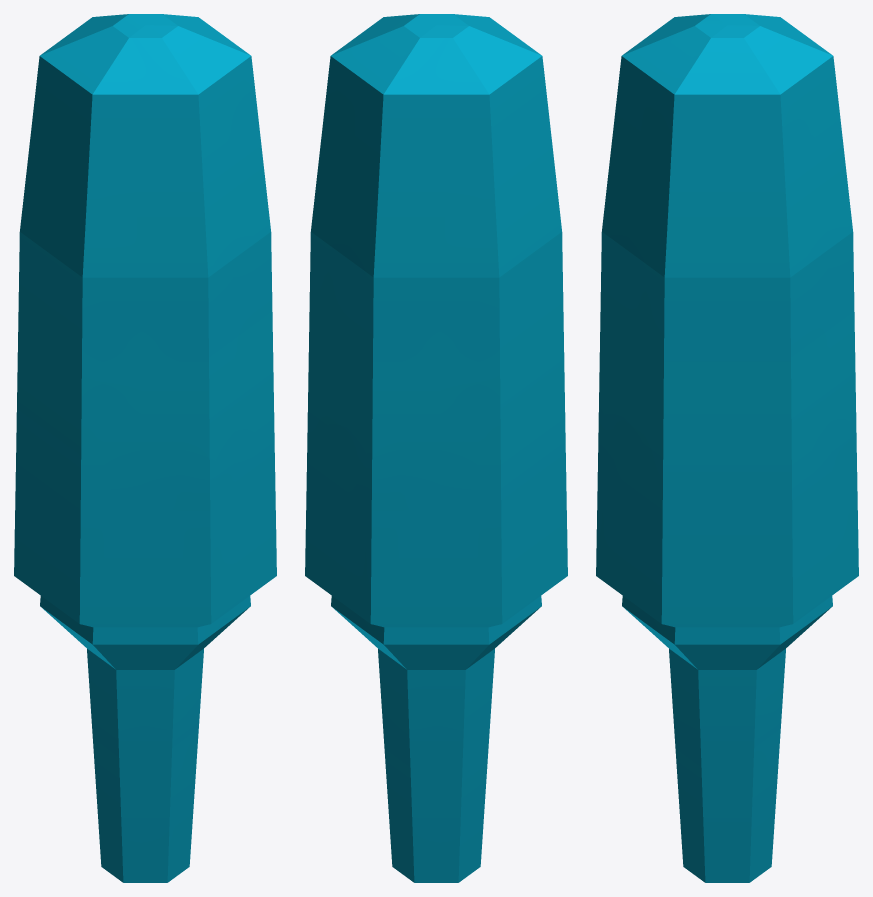
Rendered from Lightstick_Grande.fbx.
3 renders of one model, left to right at view 1: azimuth 30°, elevation 25°; view 2: azimuth 150°, elevation 25°; view 3: azimuth 270°, elevation 25°, orthographic.
Parts seen in each view (by area): view 1: Lightstick_Grande; view 2: Lightstick_Grande; view 3: Lightstick_Grande.
Boxes of the visible parts, box(x1,y1,x2,y2) form: Lightstick_Grande: box(14, 14, 276, 882); Lightstick_Grande: box(305, 14, 567, 882); Lightstick_Grande: box(596, 14, 858, 882).
Size of the model in its own units: 1.89 by 7.74 by 2.18.
1 material, 1 textured.
